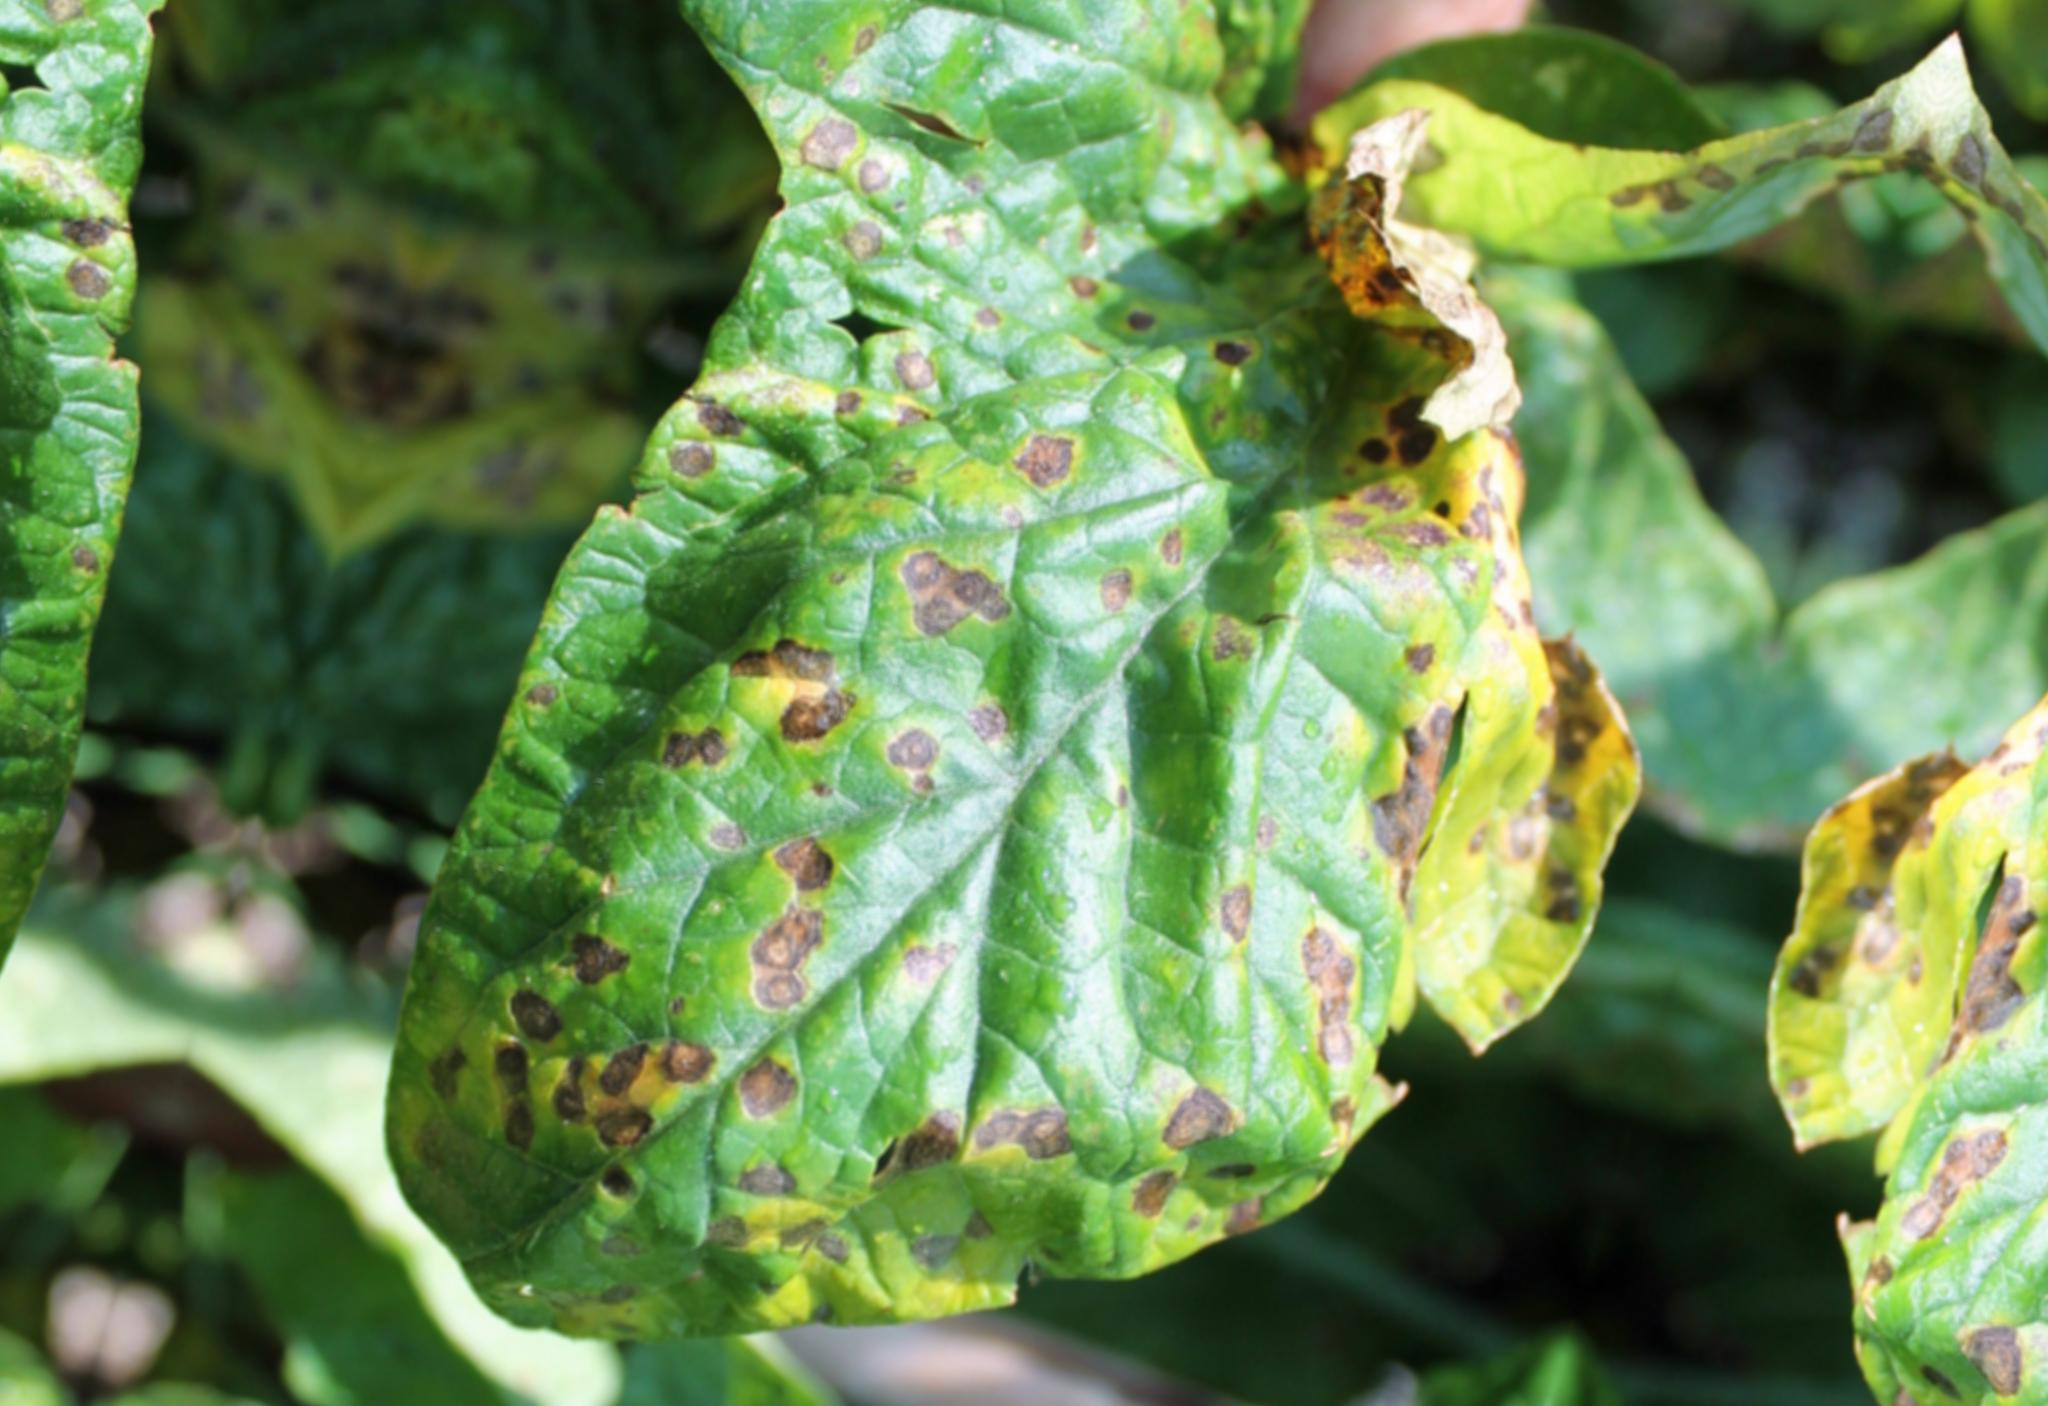Tomato Septoria leaf spot: (232, 0, 1888, 1406)
